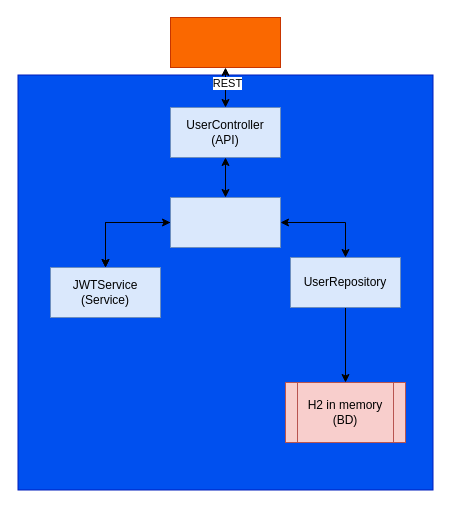
Image size: 450x508. Some labels were removed from this diagram. Each missing label, with the box of its shape:
Client (Postman/Swagger): (170, 16, 280, 68)
UserService (Service): (170, 196, 280, 248)
